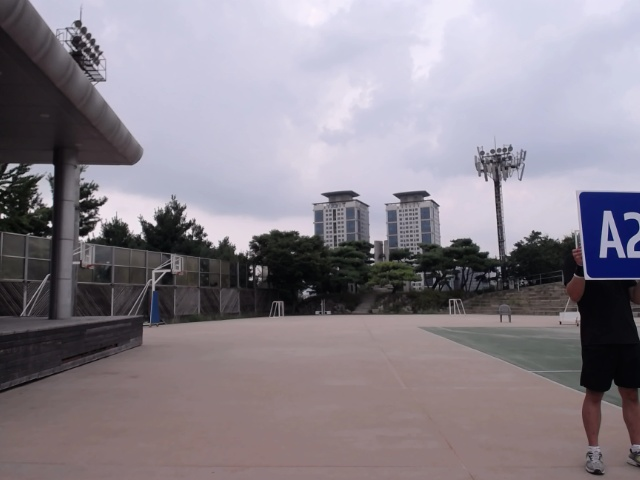delivery_a2: (577, 190, 639, 279)
